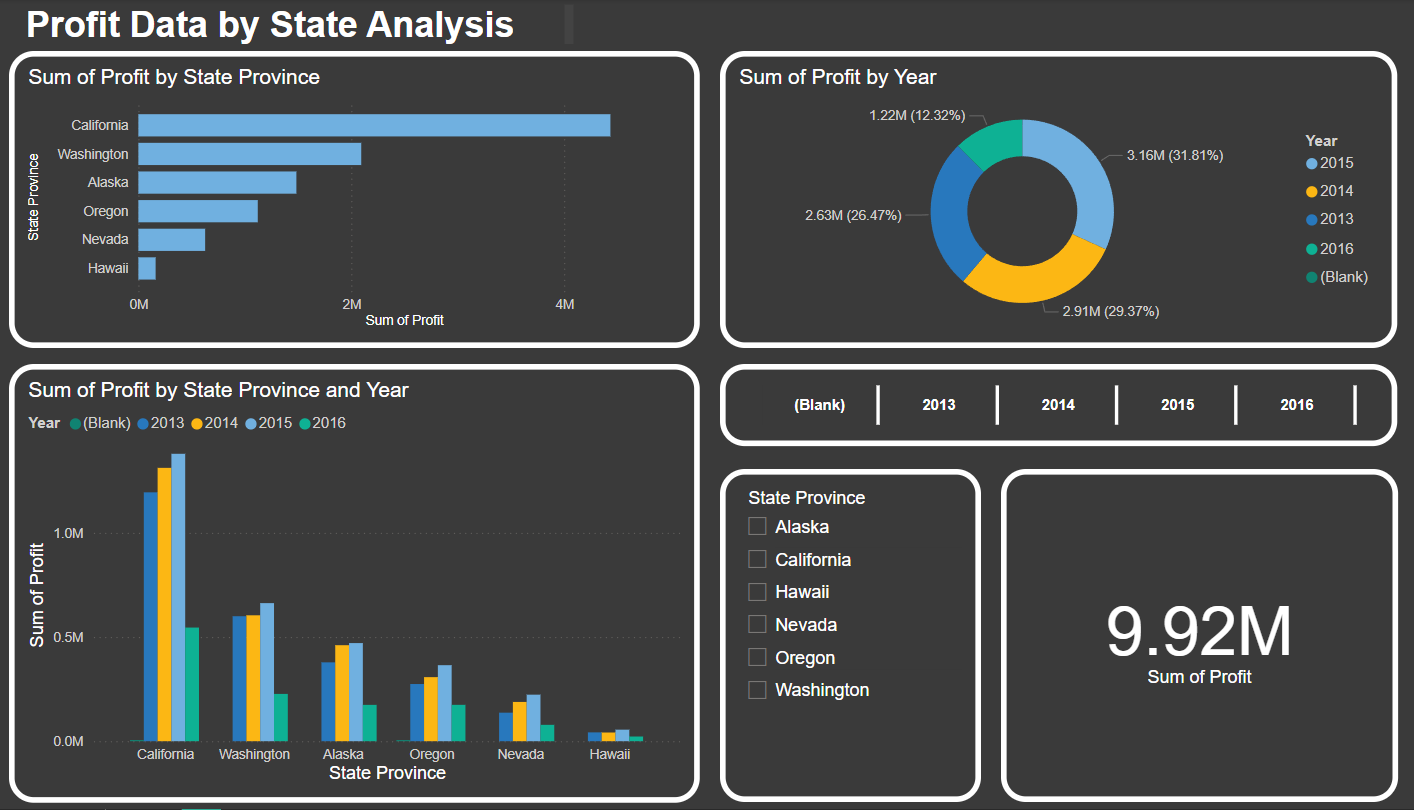

This screenshot's page, from the dashboard's own definition file:
{"tool":"powerbi","page":{"name":"Page 1","canvas":[1280,720],"ordinal":0},"visuals":[{"type":"clusteredColumnChart","fields":{"Category":["DimCity.State Province"],"Series":["FactSale.Year"],"Y":["Sum(FactSale.Profit)"]},"box":[8.1,324.1,614.1,389.6],"z":0},{"type":"barChart","fields":{"Y":["Sum(FactSale.Profit)"],"Category":["DimCity.State Province"]},"box":[8.1,45.8,614.1,263.9],"z":1000},{"type":"donutChart","fields":{"Category":["FactSale.Year"],"Y":["Sum(FactSale.Profit)"]},"box":[640.1,45.8,602.4,263.9],"z":2000},{"type":"slicer","fields":{"Values":["DimCity.State Province"]},"box":[640.1,417.5,231.6,296.3],"z":3000},{"type":"slicer","fields":{"Values":["FactSale.Year"]},"box":[640.1,324.1,602.4,72.7],"z":4000},{"type":"card","fields":{"Values":["Sum(FactSale.Profit)"]},"box":[889.7,417.5,352.8,296.3],"z":4001}]}

Visuals, with their boxes in screenshot pixels (x1, y1, x2, y2), scaled from the page's 1280x720 canvas onto the 1414x810 screenshot:
clusteredColumnChart - DimCity.State Province x FactSale.Year: 9,365,687,803
barChart - Sum(FactSale.Profit) x DimCity.State Province: 9,52,687,348
donutChart - FactSale.Year x Sum(FactSale.Profit): 707,52,1373,348
slicer - DimCity.State Province: 707,470,963,803
slicer - FactSale.Year: 707,365,1373,446
card - Sum(FactSale.Profit): 983,470,1373,803
